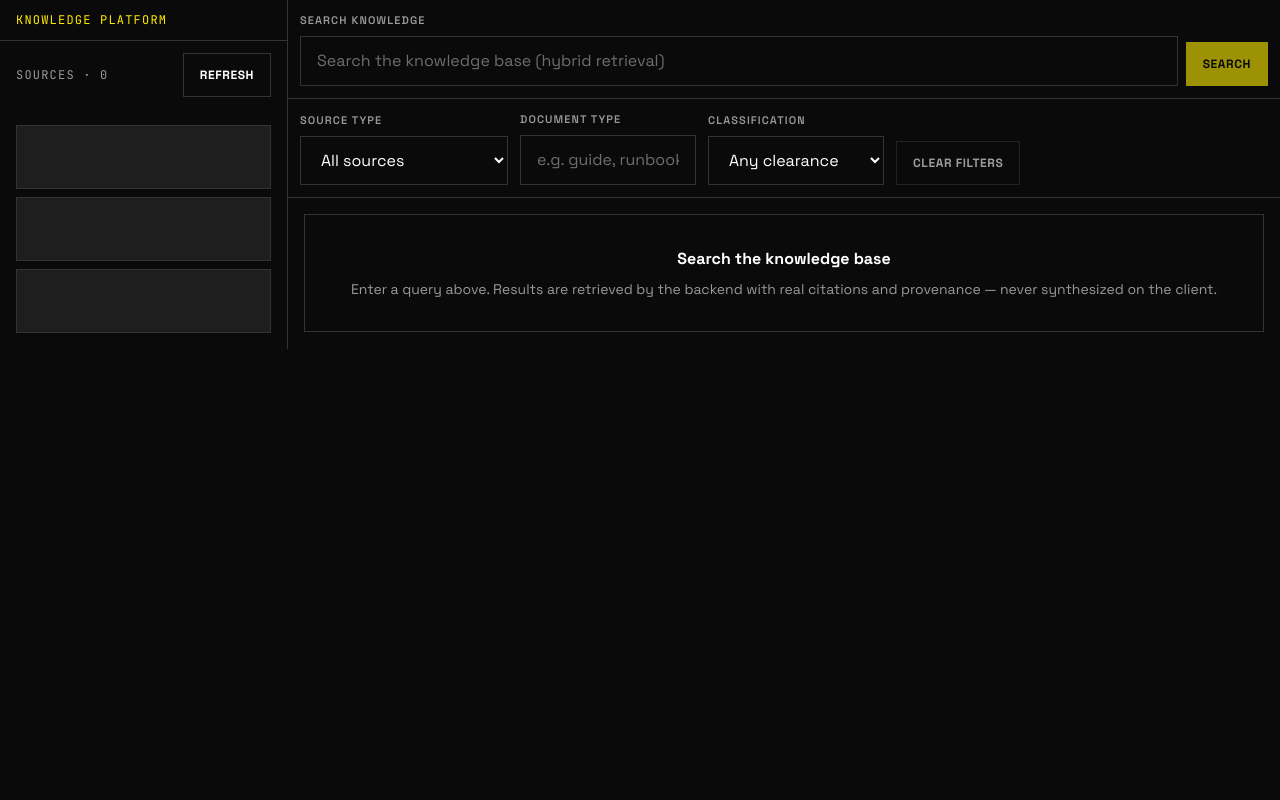
Scenario: Knowledge Workspace › runs the backend search and renders real results with citations and score
Type "hello" into the field labelled "Knowledge search".
click(739, 61); type("hello")  # box [300,36,1178,86]
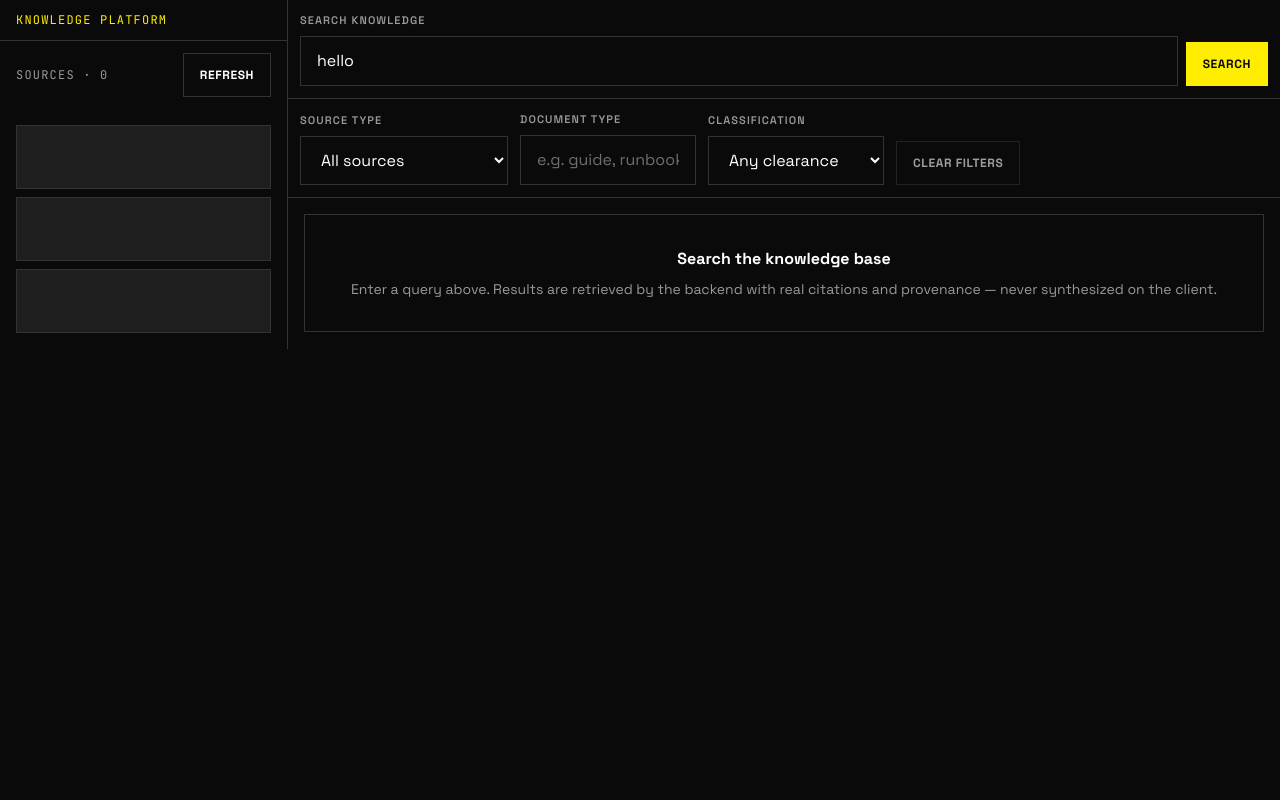
Click the button "Search".
click(1227, 64)  # box [1186,42,1268,86]
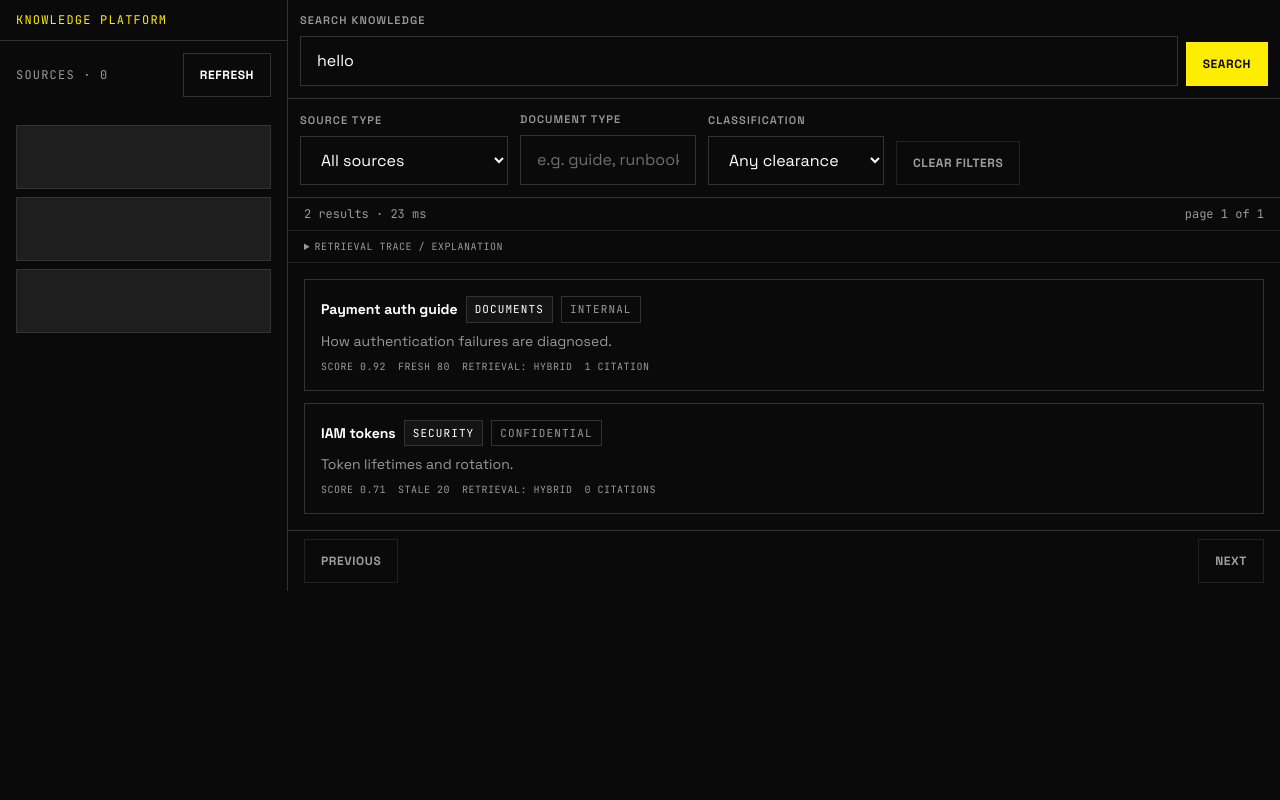
Result: the list named "Knowledge results" is shown at [288,263,1279,530]
Result: the text "IAM tokens" is shown at [321,423,396,443]
Result: the text "2 results · 23 ms" is shown at [304,206,426,222]
